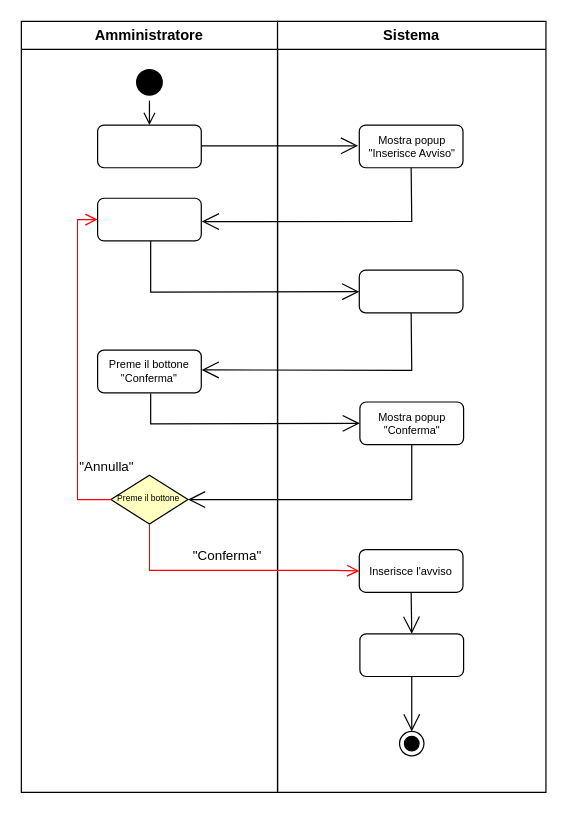
Some shapes in this 567 by 814 pixel diagram are drawn without their labels. Here are the shapes that lost their labels. From the top down, the centre of each, then its label:
the point at 148,146: Preme bottone "Crea Avviso"
the point at 148,219: Inserisce il testo dell'avviso
the point at 410,291: Abilita il bottone "Conferma"
the point at 411,654: Mostra la schermata "Home Admin"
